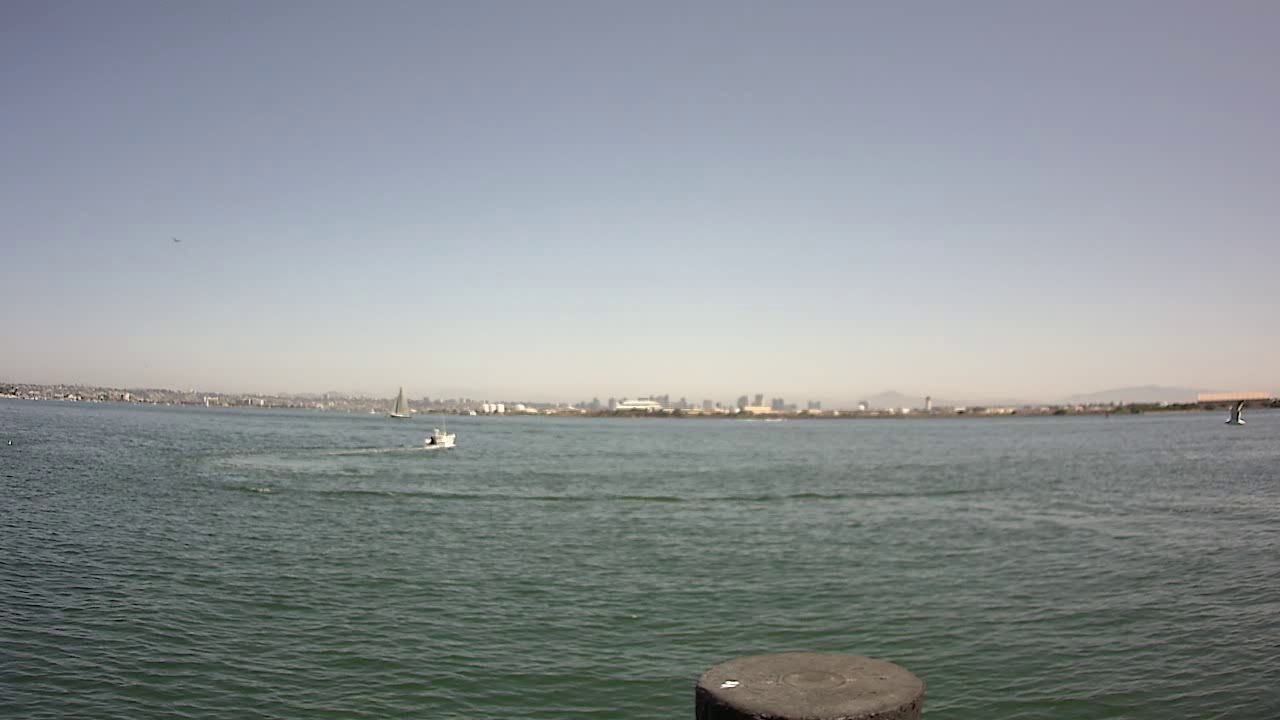target: (417, 415, 470, 464)
